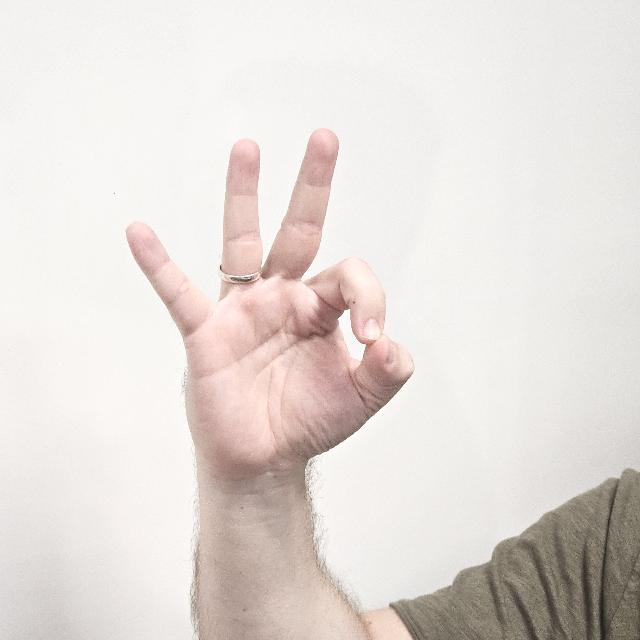Bolinha: (121, 123, 421, 490)
